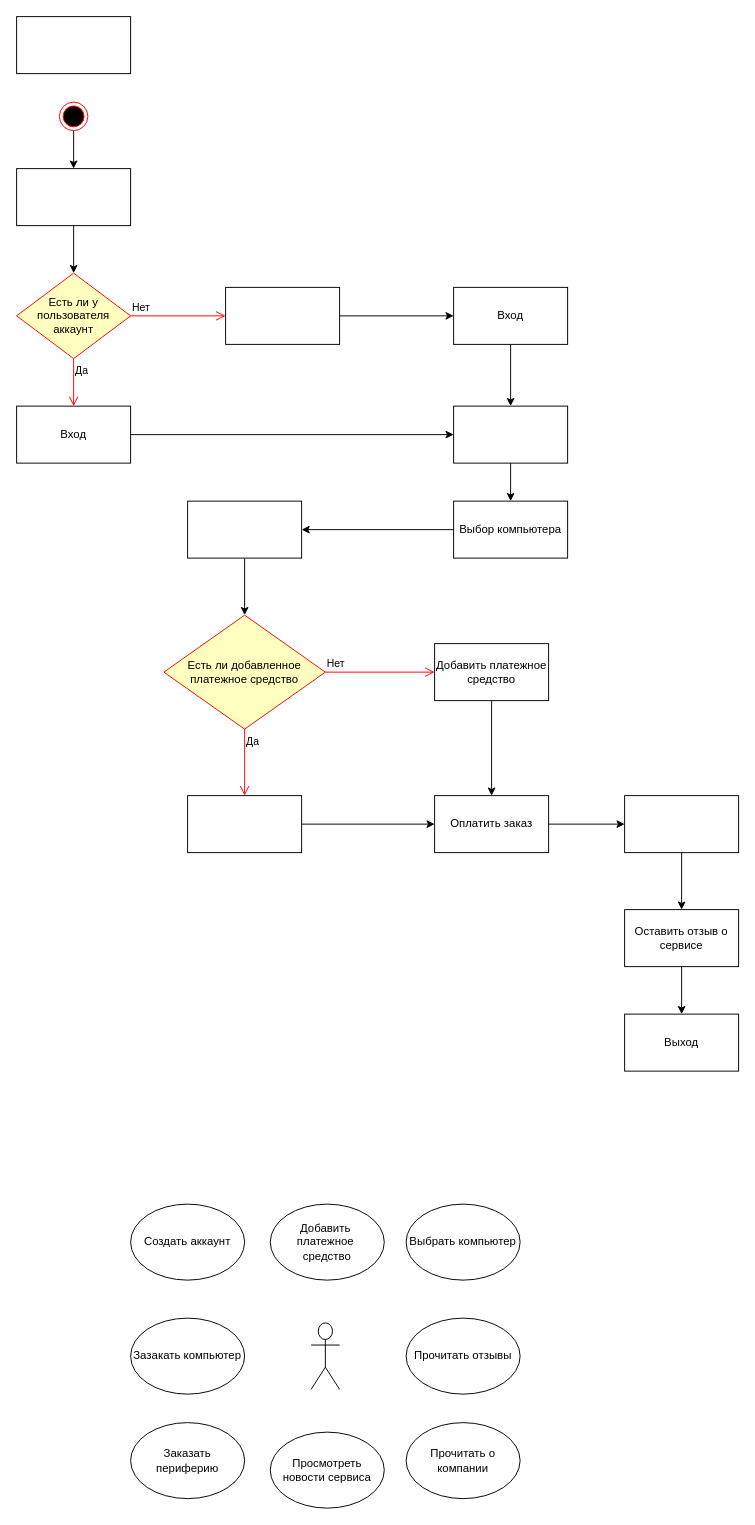
Some shapes in this 755 by 1525 pixel diagram are drawn without their labels. The shapes that lost their labels are listed below. From the top down, each one's centre as x and y in pixels, then its label:
At point (73, 45): "Новый пользователь".
At point (73, 197): "Проверка авторизации".
At point (282, 315): "Регистрация".
At point (510, 434): "Просмотр каталога".
At point (244, 529): "Покупка выбранного компьютера".
At point (244, 824): "Выбрать нужный вариант платёжного средства".
At point (681, 824): "Оформить доставку".
At point (325, 1355): "Пользователь".
